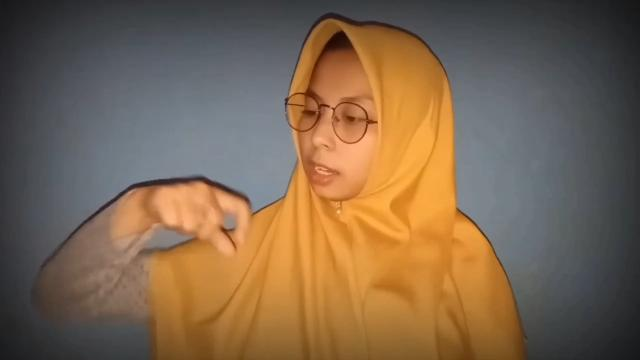Q: (144, 173, 260, 263)
